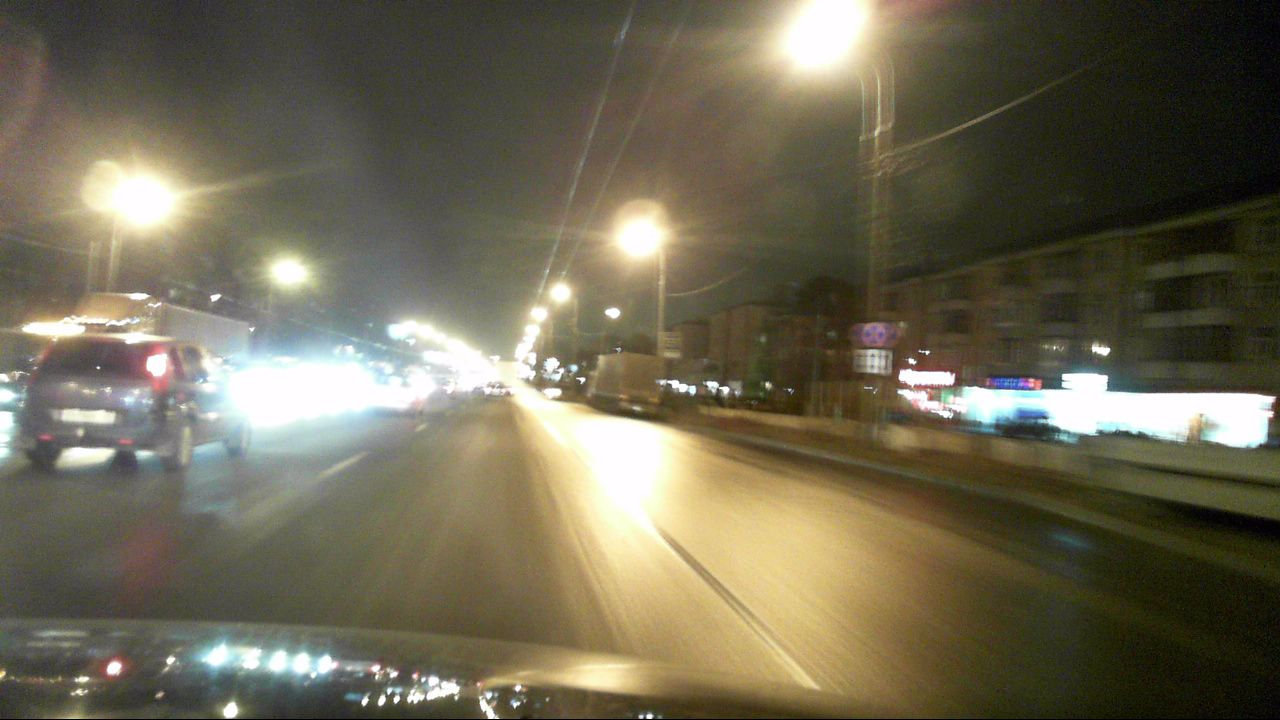No Parking: (862, 322, 888, 348)
